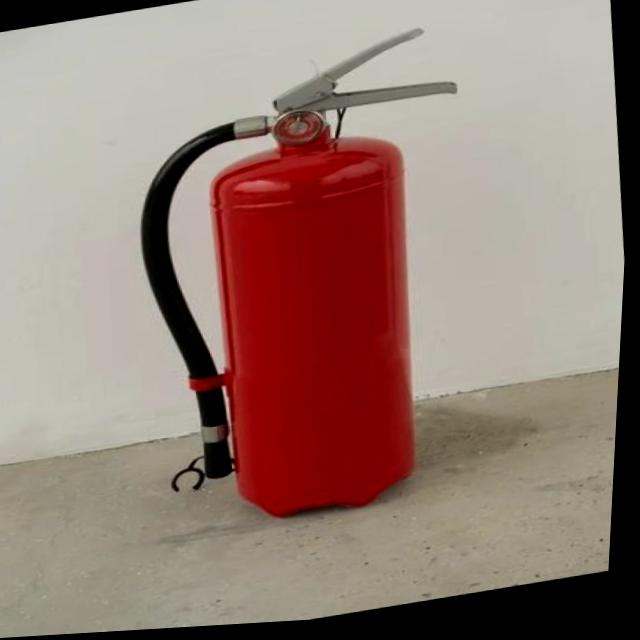FireExtinguisher: (108, 20, 504, 547)
